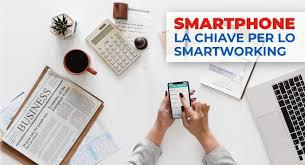Hand: (148, 90, 196, 125), (178, 91, 210, 137)
Smartphone: (167, 81, 193, 122)
